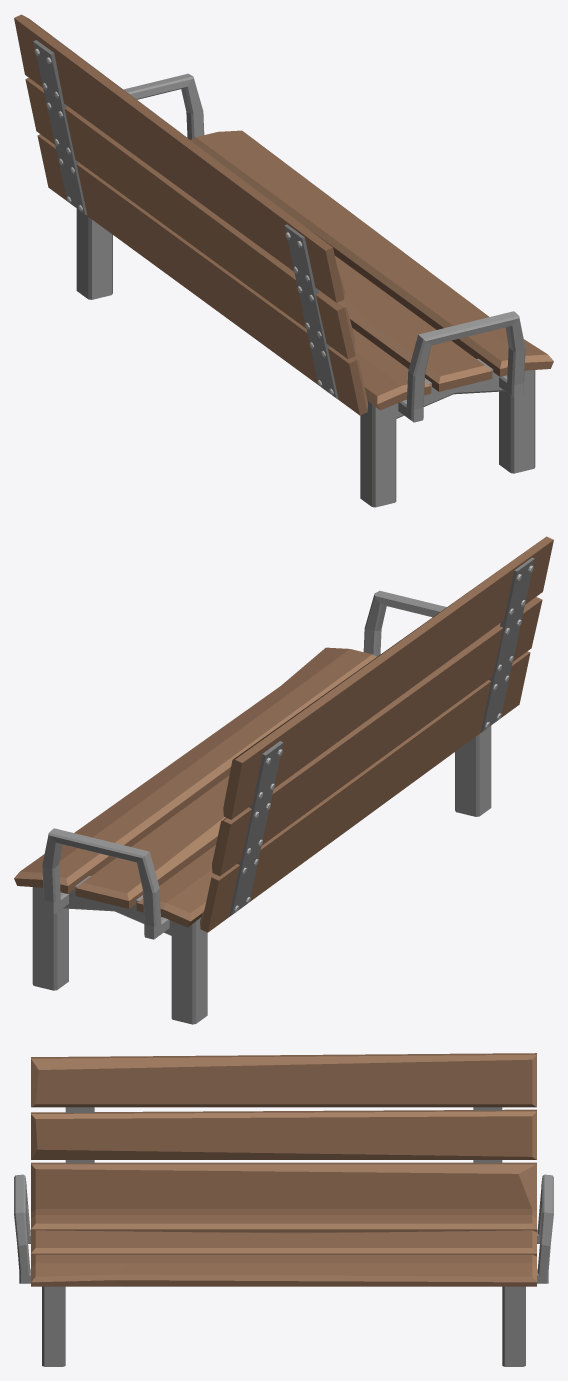
File: Bench.fbx
3 views of the same model, one above another, from view 1: azimuth 30°, elevation 25°; view 2: azimuth 150°, elevation 25°; view 3: azimuth 270°, elevation 25° (orthographic). The views are drawn at different scales.
Visible parts, largest first — view 1: Bench; view 2: Bench; view 3: Bench.
Boxes of the visible parts, box(x1,y1,x2,y2) form: Bench: box(14, 14, 553, 507); Bench: box(14, 536, 553, 1024); Bench: box(14, 1053, 553, 1366).
Bounding box in the file's own units: 95.22 × 111 × 237.
